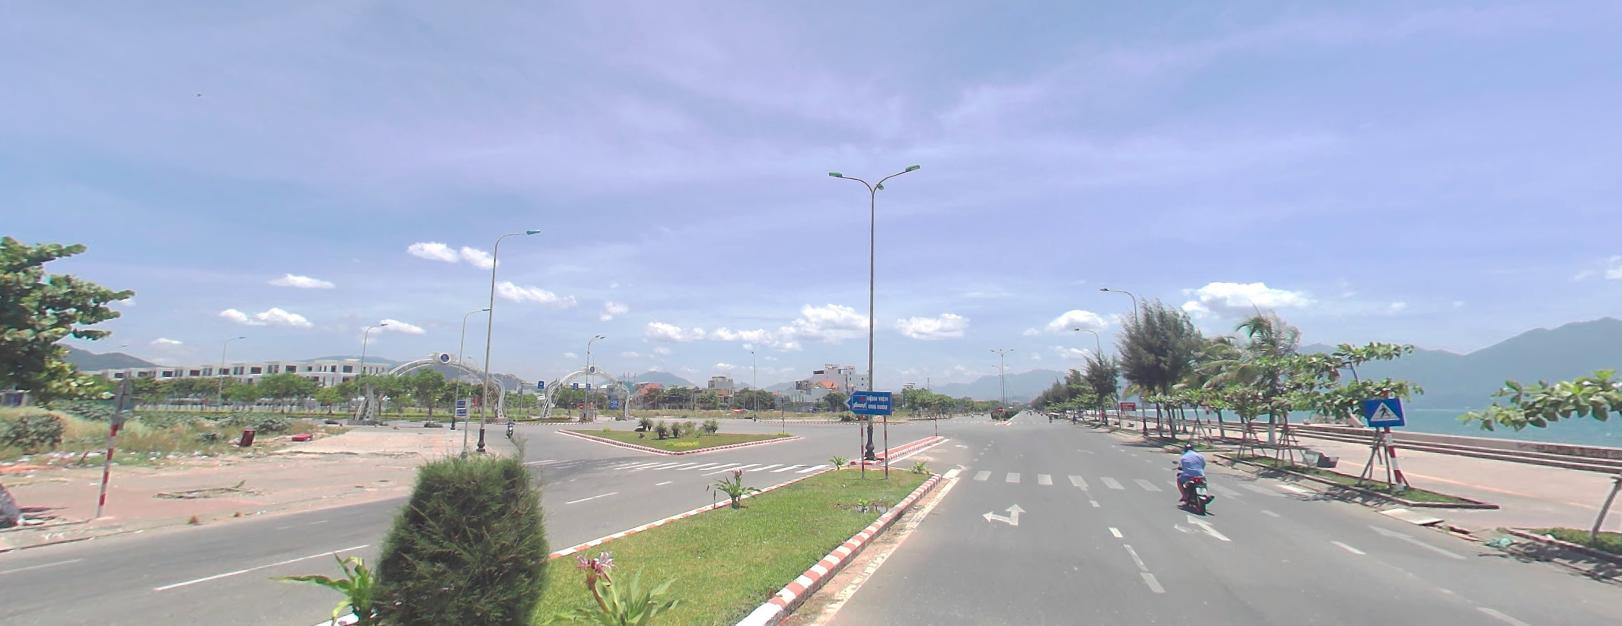Cam nguoc chieu: (996, 404, 1003, 410), (578, 403, 583, 408)
